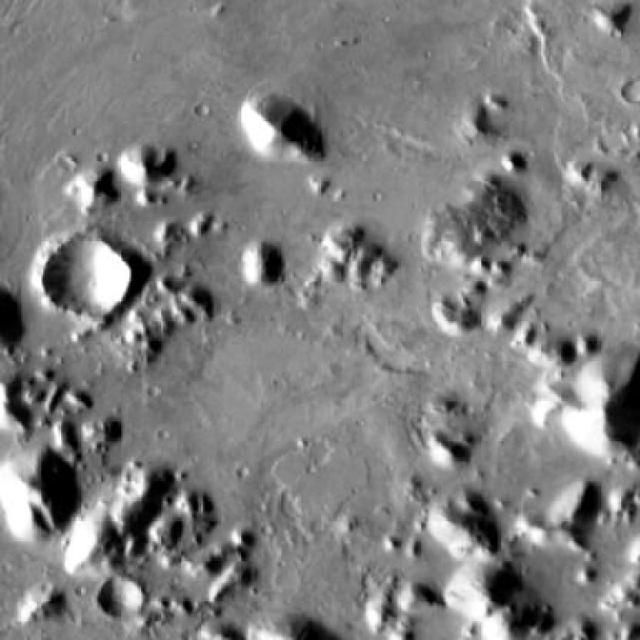crater: (56, 239, 147, 321), (118, 580, 158, 615)
